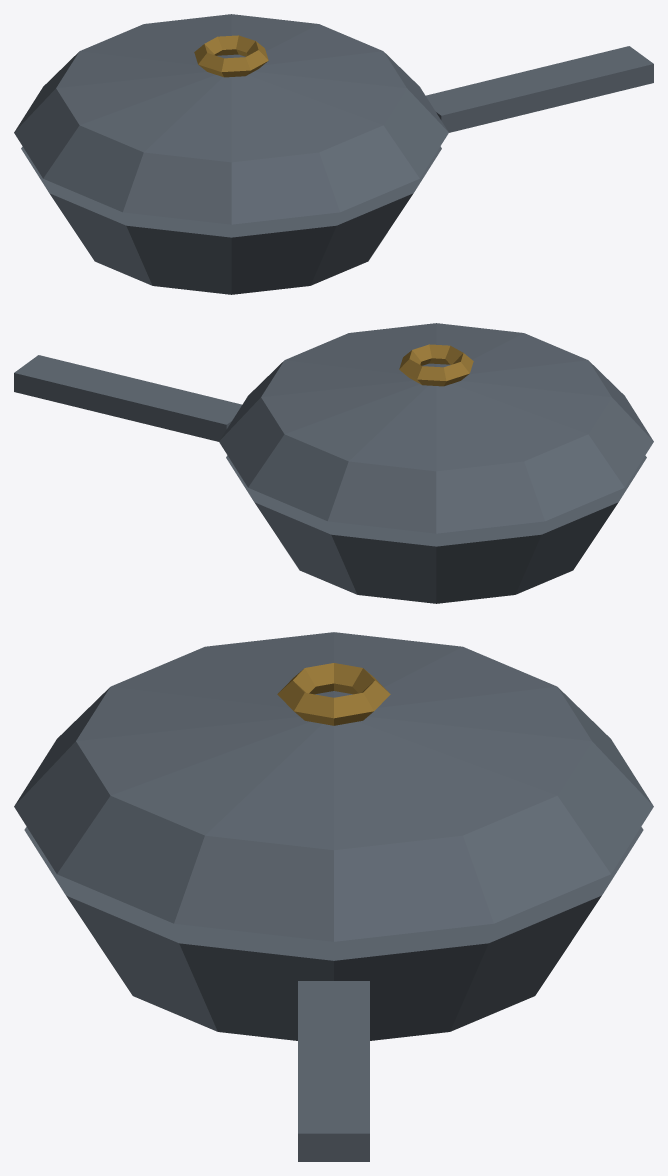
Rendered from mess-kit.glb.
3 renders of one model, top to bottom at view 1: azimuth 30°, elevation 25°; view 2: azimuth 150°, elevation 25°; view 3: azimuth 270°, elevation 25°, orthographic. The views are drawn at different scales.
Visible parts, largest first — view 1: m; view 2: m; view 3: m.
Part boxes in pixels (<box>): m: <box>14,14,653,294</box>; m: <box>14,323,653,603</box>; m: <box>14,632,653,1161</box>.
Bounding box in the file's own units: 0.18 × 0.0521 × 0.1133.
